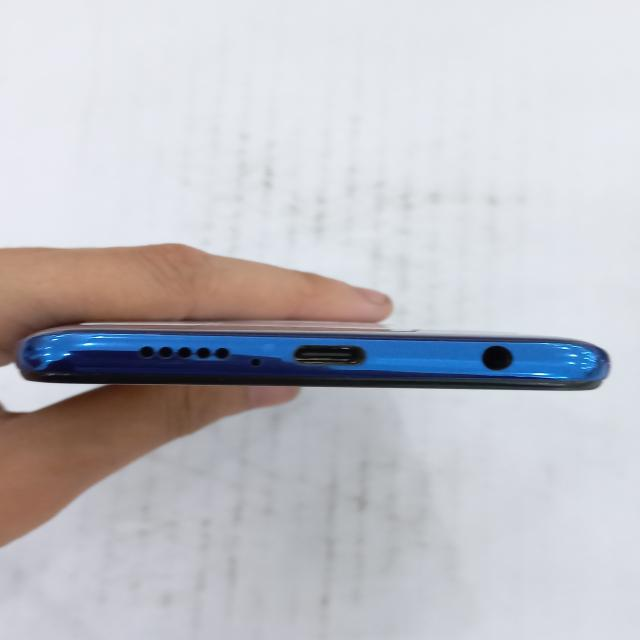phone good: (29, 335, 614, 389)
